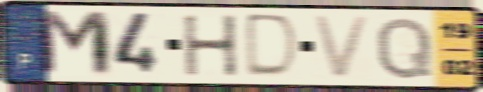4: (109, 10, 166, 79)
D: (243, 12, 303, 81)
H: (180, 13, 241, 79)
M: (36, 8, 116, 79)
Q: (374, 14, 435, 82)
V: (309, 13, 375, 81)
